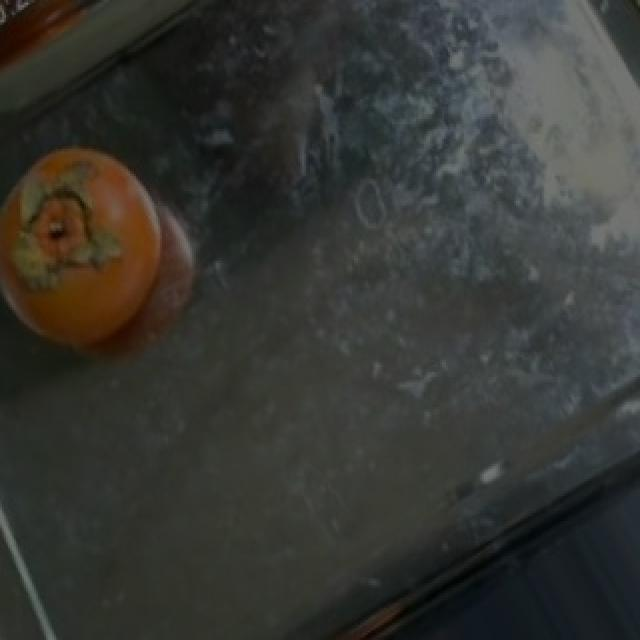Fruit: (2, 122, 186, 380), (0, 0, 152, 64)
